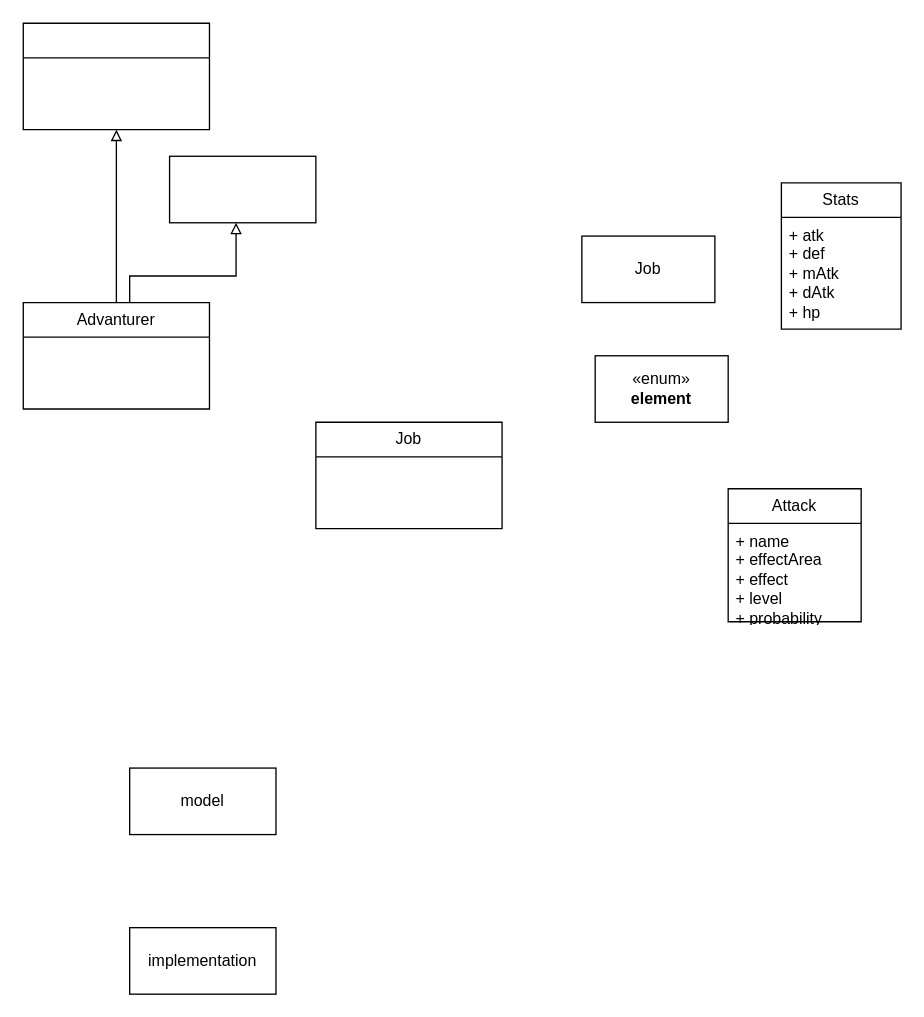
Some shapes in this 924 by 1017 pixel diagram are drawn without their labels. Here are the shapes that lost their labels. From the top down, the centre of each, then its label:
point (115, 76): Creature
point (242, 189): «interface» Playable
